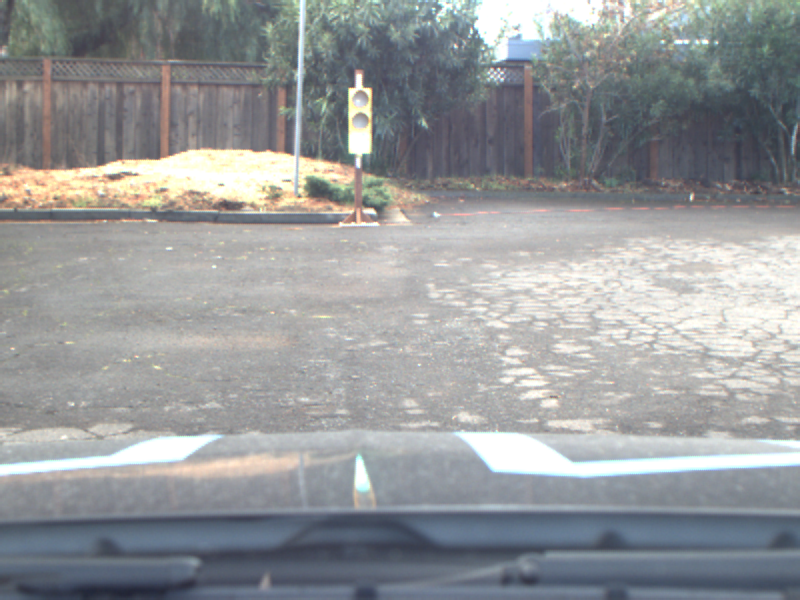Green: (347, 86, 372, 153)
